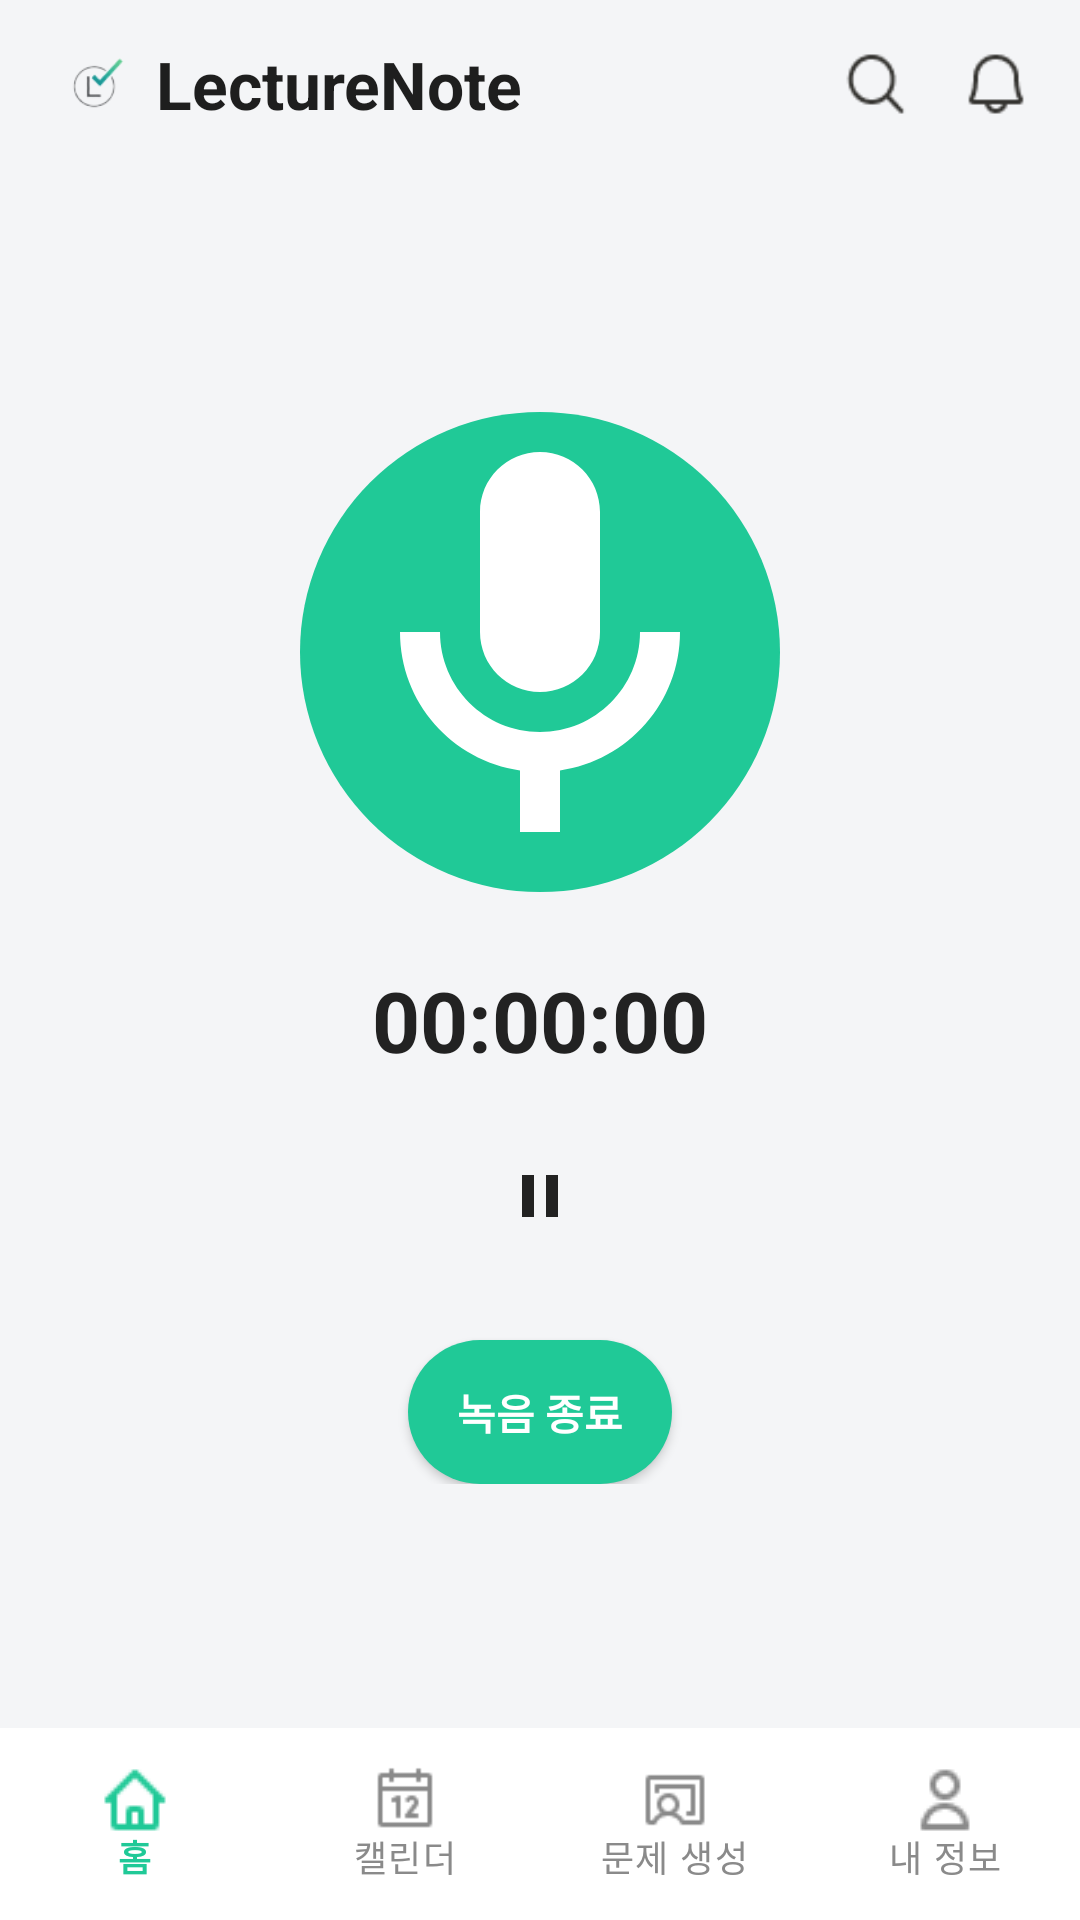

Point at icon controls on the screen. Image size 1080px x 1920px, points as point (x, y).
Alert: point (996, 84)
Pause/Resume: point (540, 1196)
Search: point (875, 84)
